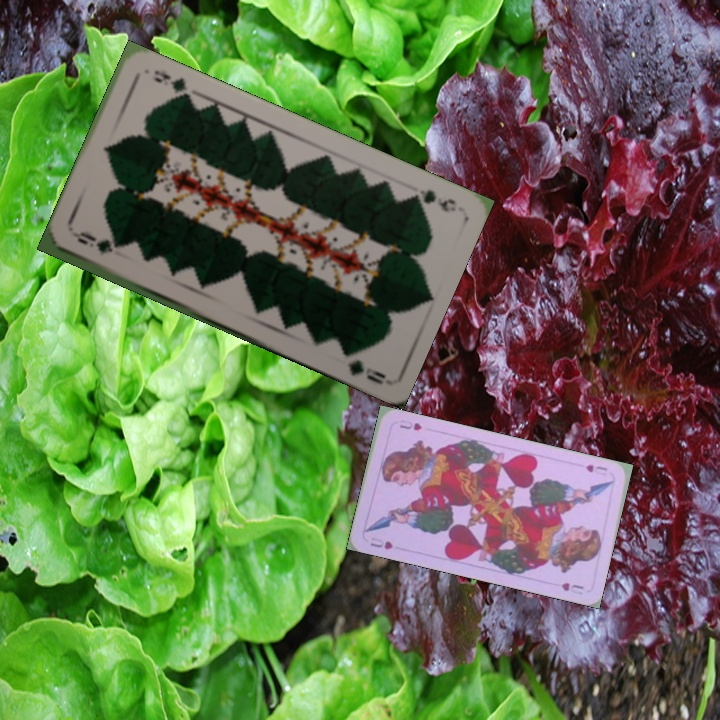G9: (404, 186, 459, 215), (70, 230, 116, 257)
HU: (366, 534, 396, 552), (582, 460, 610, 475)
